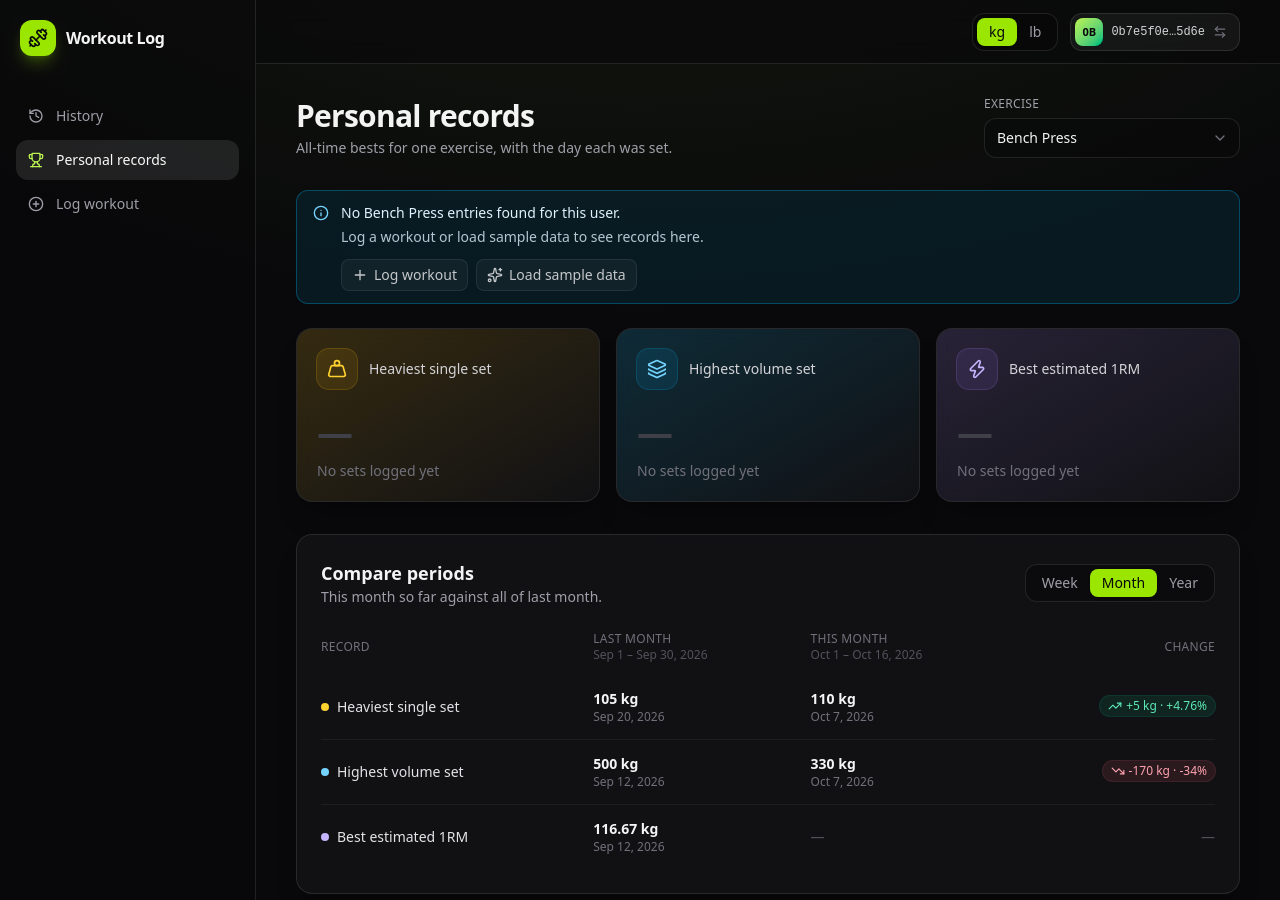
Test: ComparisonPanel › switches to week-over-week, with weeks starting on Monday
The width and height of the screenshot is (1280, 900).
Expected: the table is shown, x1=321 y1=631 x2=1215 y2=869
Click the radio button labelled "Week". click: click(1060, 583)
box: x1=1030 y1=569 x2=1090 y2=597
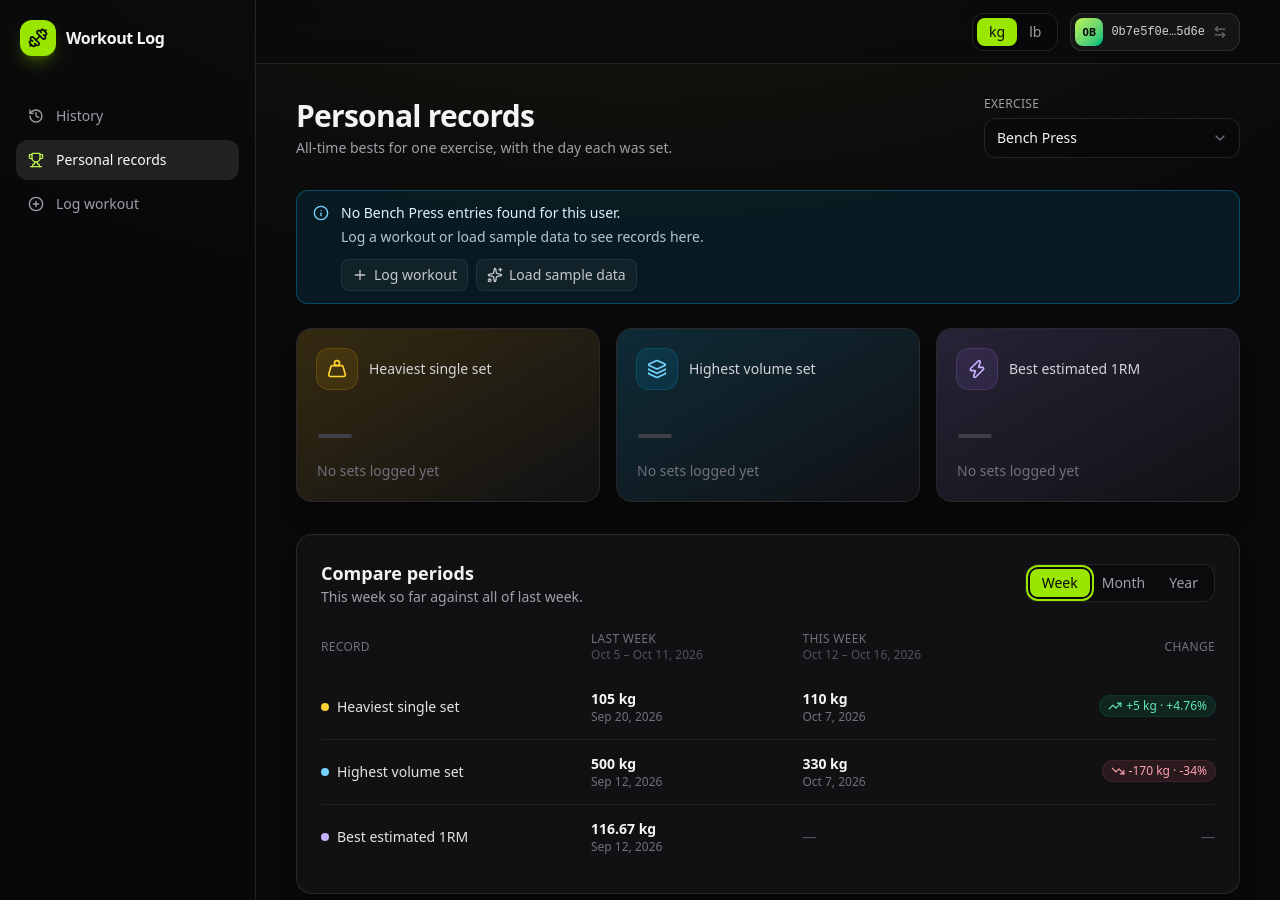
Result: the column heading "This week Oct 12 – Oct 16, 2026" is shown at x1=802 y1=631 x2=1025 y2=675
